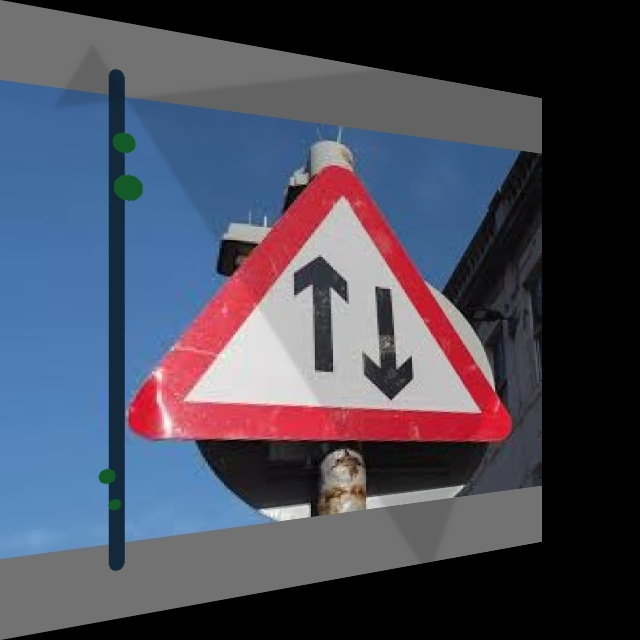Mandatory_Two_Way_Traffic: (134, 144, 514, 480)
